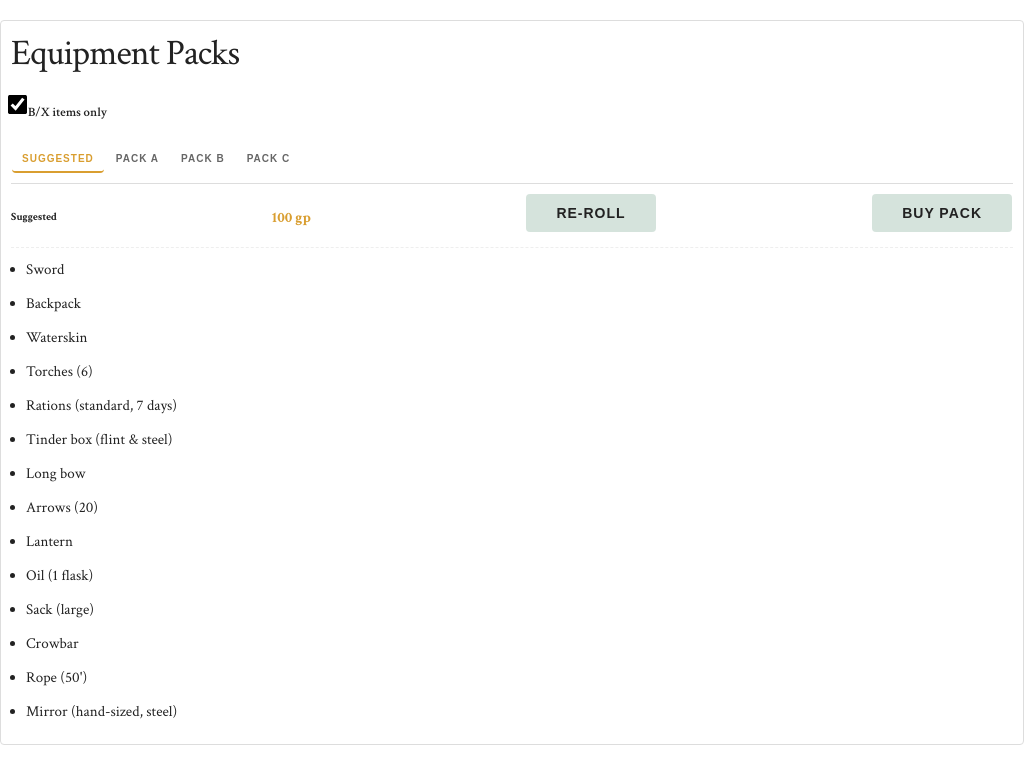
Test: PackOptionsContainer › re-roll button › does NOT render the re-roll button on static pack tabs
# Switch to Pack A (index 1)
Click the button "Pack A". click: (137, 154)
box: top-left (106, 135), bottom-right (169, 173)
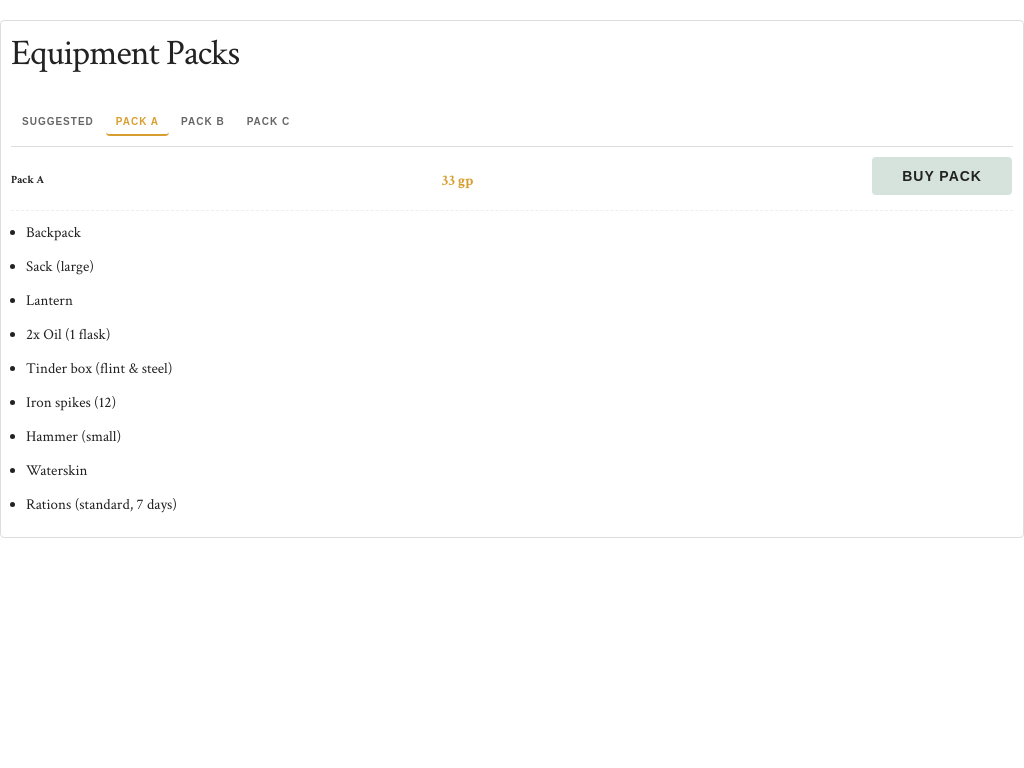
Expected: the button "Re-roll" is gone
